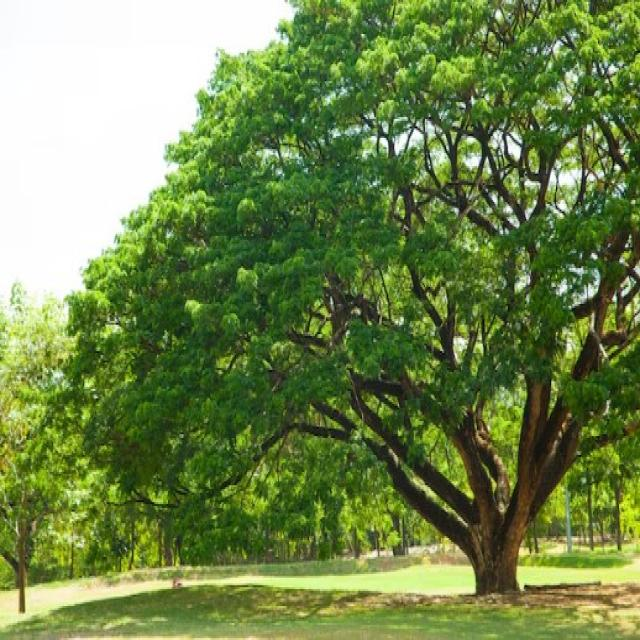Acacia: (67, 0, 640, 568)
